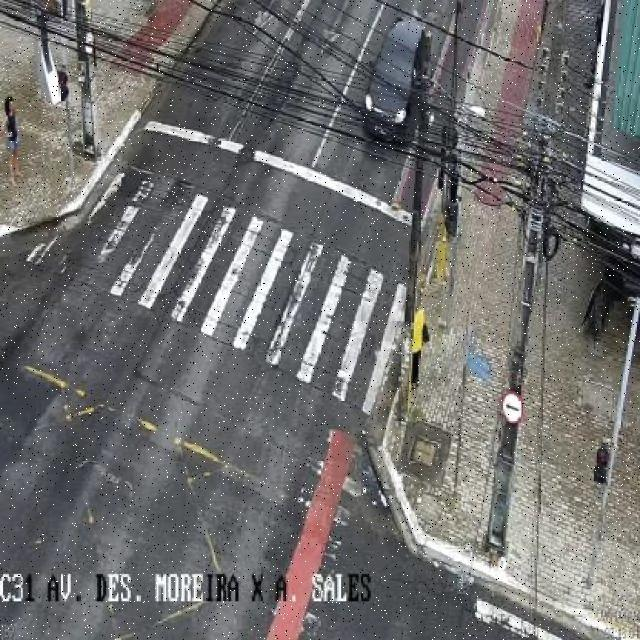Car: (358, 15, 437, 146)
